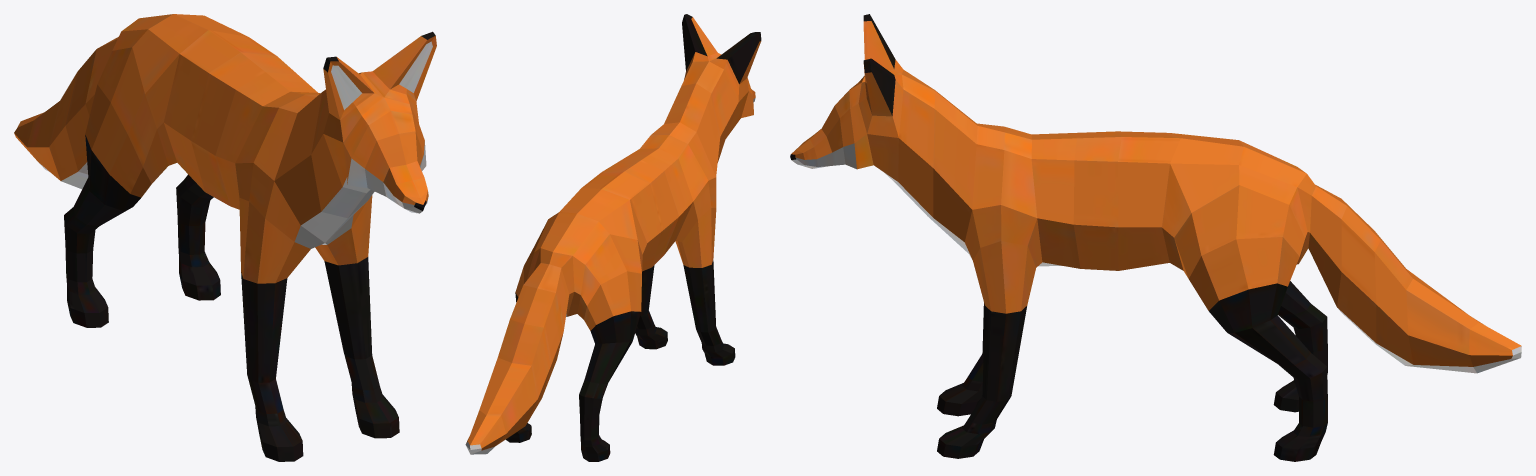
File: animals-fox-100.glb
3 views of the same model, side by side, from view 1: azimuth 30°, elevation 25°; view 2: azimuth 150°, elevation 25°; view 3: azimuth 270°, elevation 25° (orthographic). The views are drawn at different scales.
Visible parts, largest first — view 1: 01foxFinal; view 2: 01foxFinal; view 3: 01foxFinal.
Part boxes in pixels (bbox=[...]): 01foxFinal: bbox=[14, 14, 436, 461]; 01foxFinal: bbox=[465, 14, 761, 461]; 01foxFinal: bbox=[790, 14, 1521, 461].
Bounding box in the file's own units: 0.4363 × 1.13 × 1.91.
Materials: 1 (1 with a texture image).
